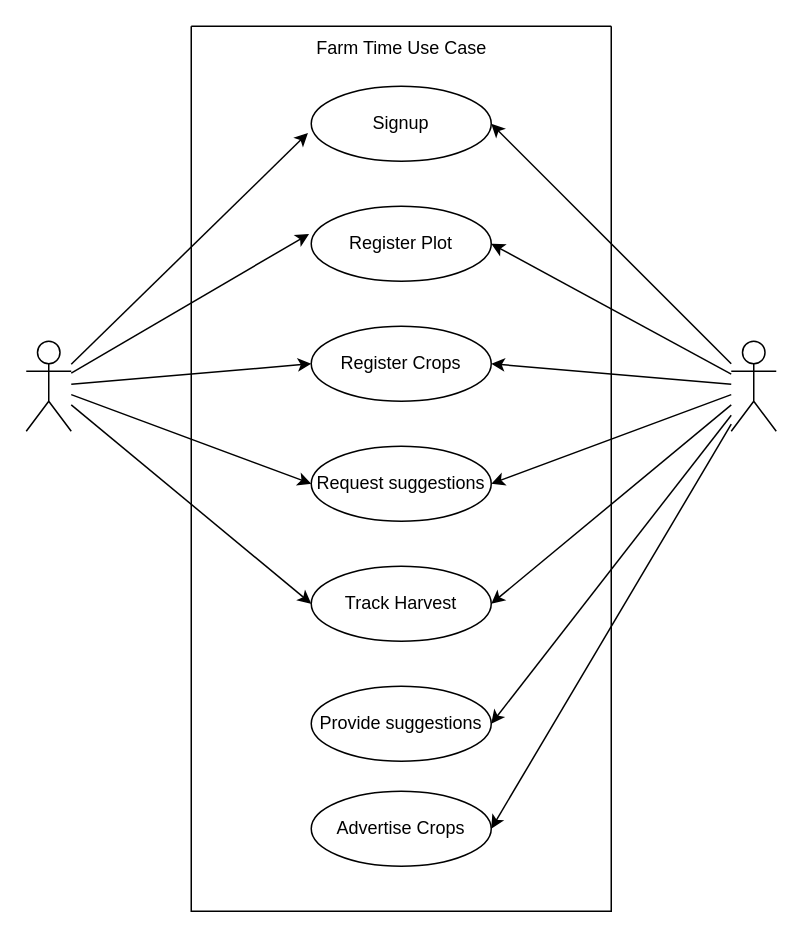
The diagram is 809 pixels wide and 938 high, and some of its shapes have lost their labels. The shapes that lost their labels are listed below. From the top down, each one's box as (x1, y1, x2, y2) in pixels, then its label:
(25, 340, 71, 431): Client
(730, 340, 776, 431): Farmer
